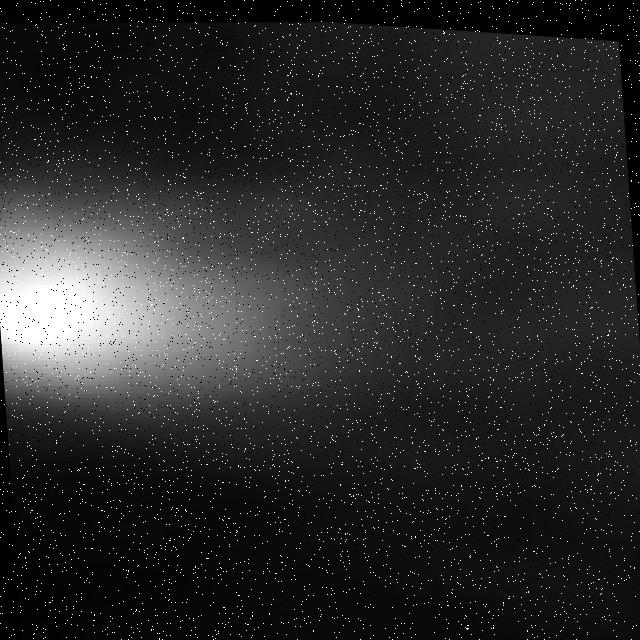person: (1, 161, 413, 423)
